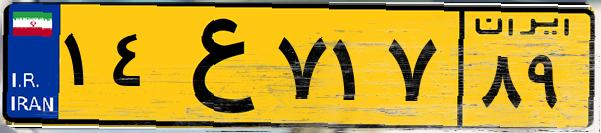1: (330, 28, 385, 110), (57, 26, 110, 100)
4: (110, 28, 158, 98)
7: (270, 28, 330, 110), (385, 28, 445, 110)
8: (475, 38, 525, 113)
9: (525, 38, 570, 115)
ع: (158, 12, 270, 120)
